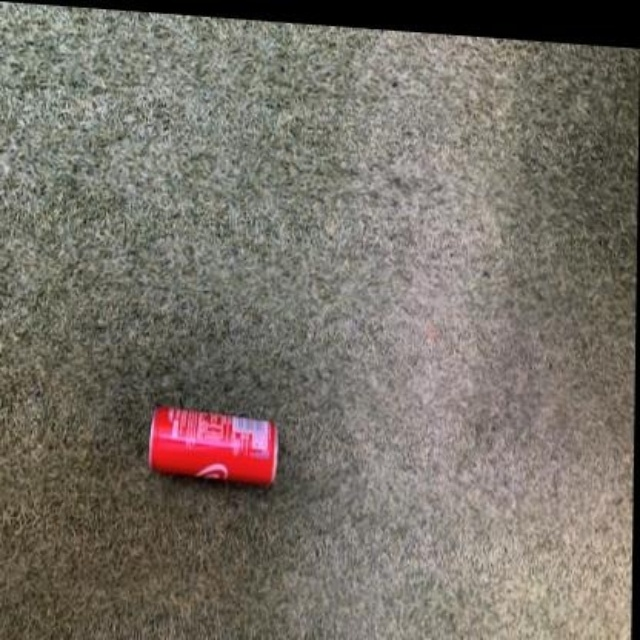trash: (149, 405, 277, 485)
